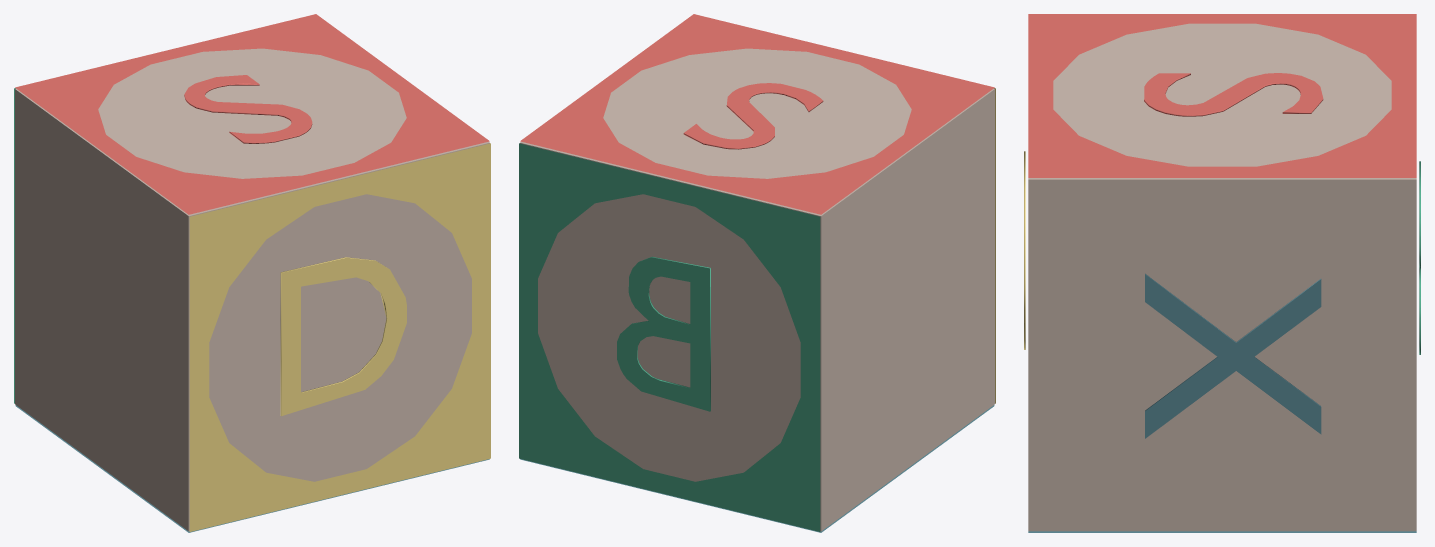
The picture shows the model from 3 angles, left to right: view 1: azimuth 30°, elevation 25°; view 2: azimuth 150°, elevation 25°; view 3: azimuth 270°, elevation 25°; orthographic projection. The views are drawn at different scales.
Visible parts, largest first — view 1: cube; view 2: cube; view 3: cube.
Part boxes in pixels (x1,y1,x2,y2): cube: (14, 14, 490, 532); cube: (519, 14, 995, 532); cube: (1024, 14, 1420, 532).
Bounding box in the file's own units: 0.0453 × 0.046 × 0.046.
